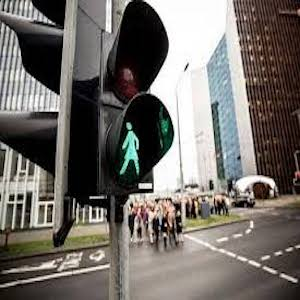green: (116, 118, 150, 173)
